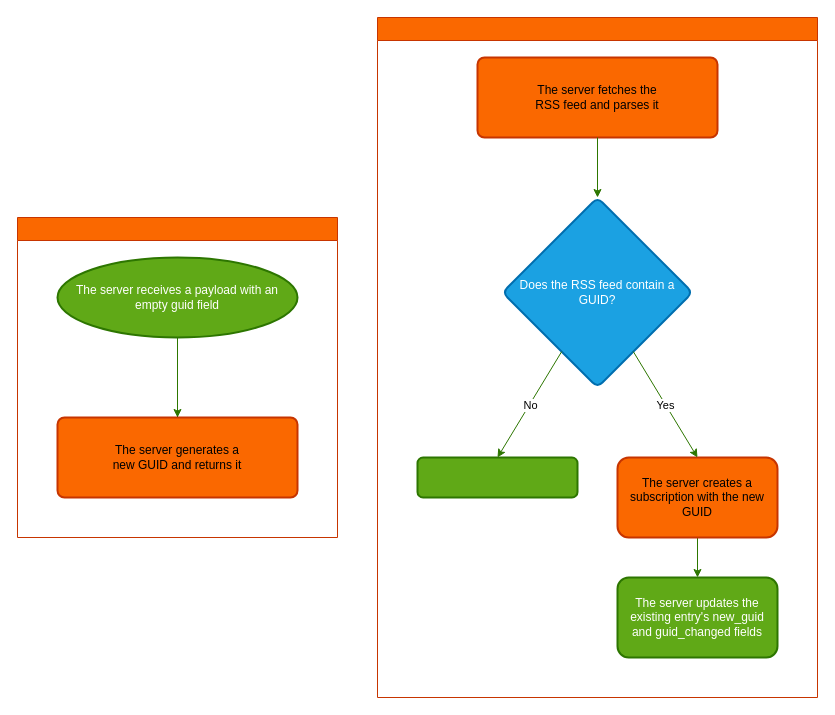
This 835x715 diagram has some shape labels left out. The shapes that lost their labels are listed below. From the top down, each one's box as (x1, y1, x2, y2) in pixels, then its label:
(16, 216, 338, 538): Intiial server response
(376, 16, 818, 698): For each empty GUID
(416, 456, 578, 498): The server keeps the generated GUID
